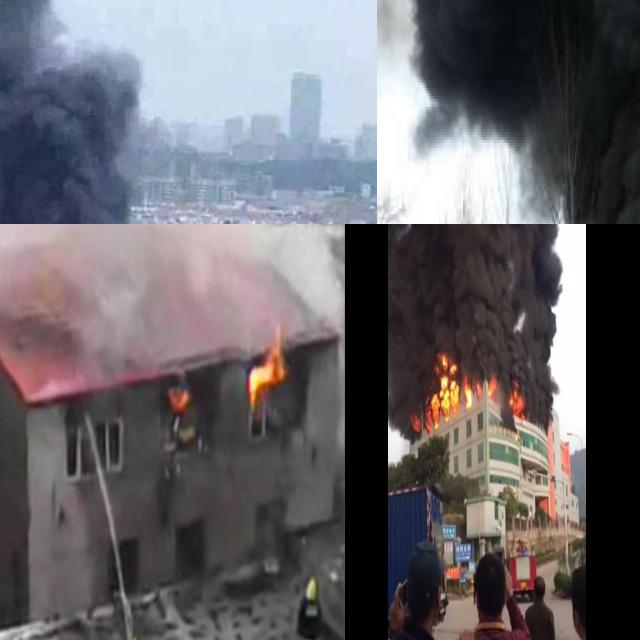fire: (422, 354, 487, 425), (247, 336, 287, 406), (507, 382, 525, 418), (167, 384, 190, 410)
smoke: (406, 0, 640, 224), (0, 224, 340, 353), (0, 0, 180, 224), (386, 224, 567, 428)
